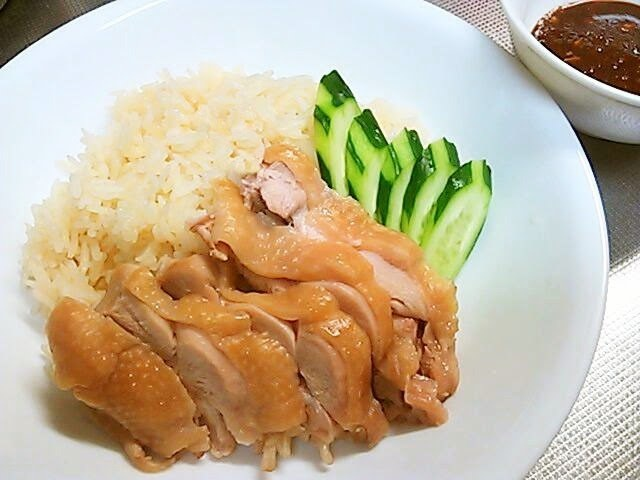background: (17, 49, 493, 356), (109, 0, 639, 72)
